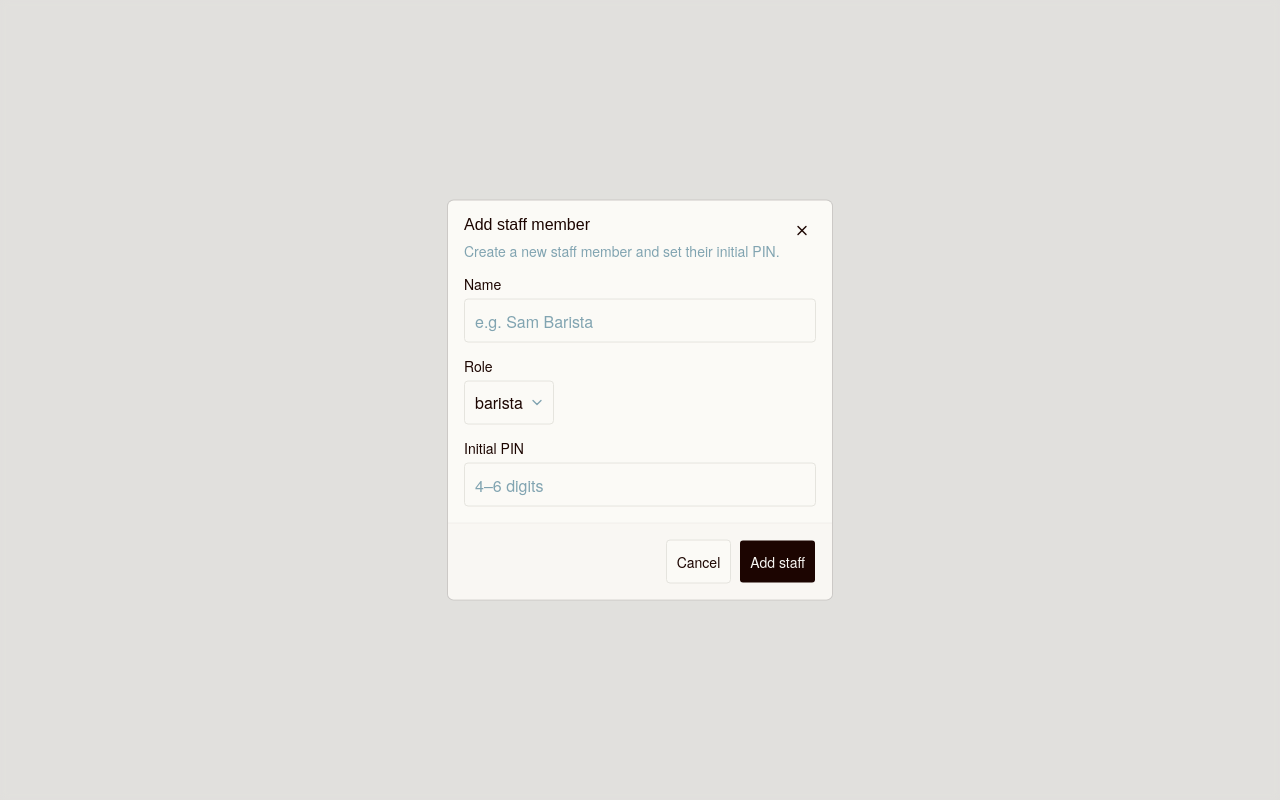
Test case: StaffForm — add › shows a message for a 3-digit PIN
This screenshot has width=1280, height=800.
Type "QA Temp" into the field labelled "Name" at [640, 320], box [464,298,816,342]
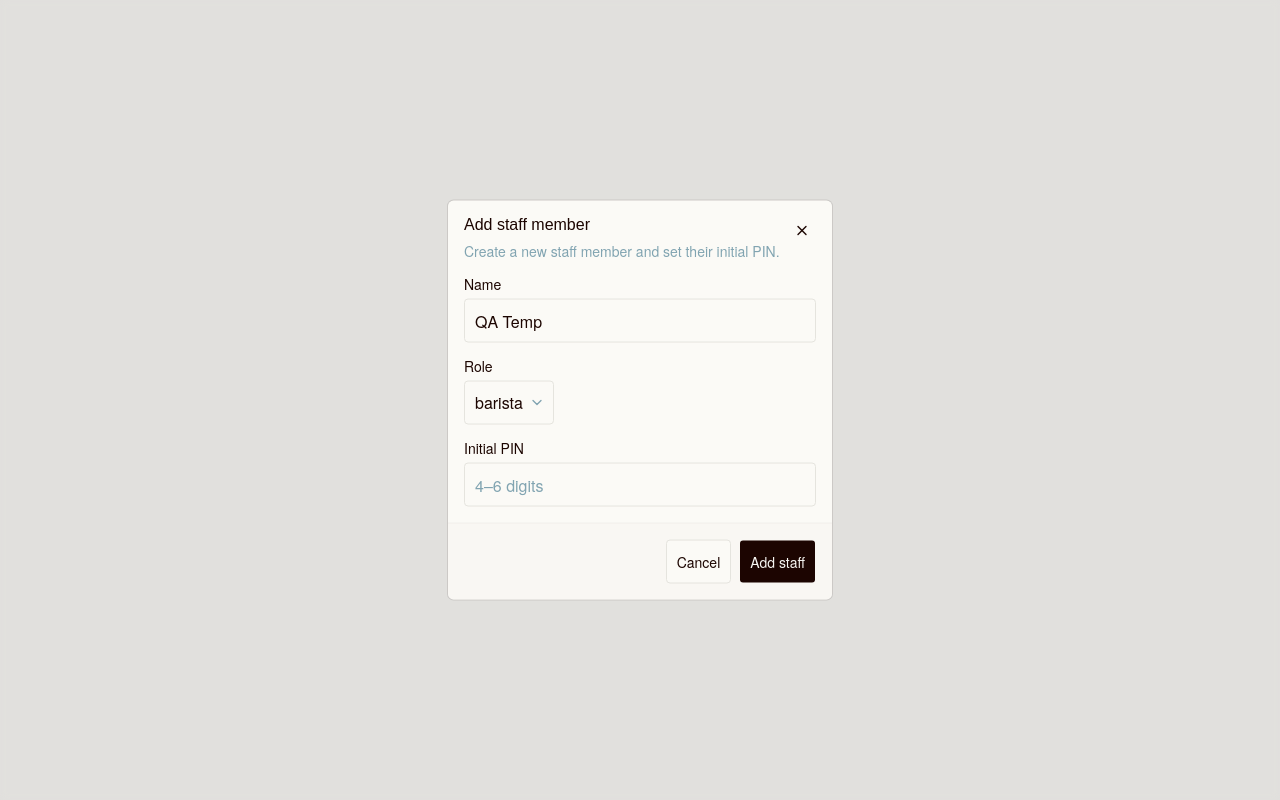
Type "123" into the field labelled "Initial PIN" at [640, 484], box [464,462,816,506]
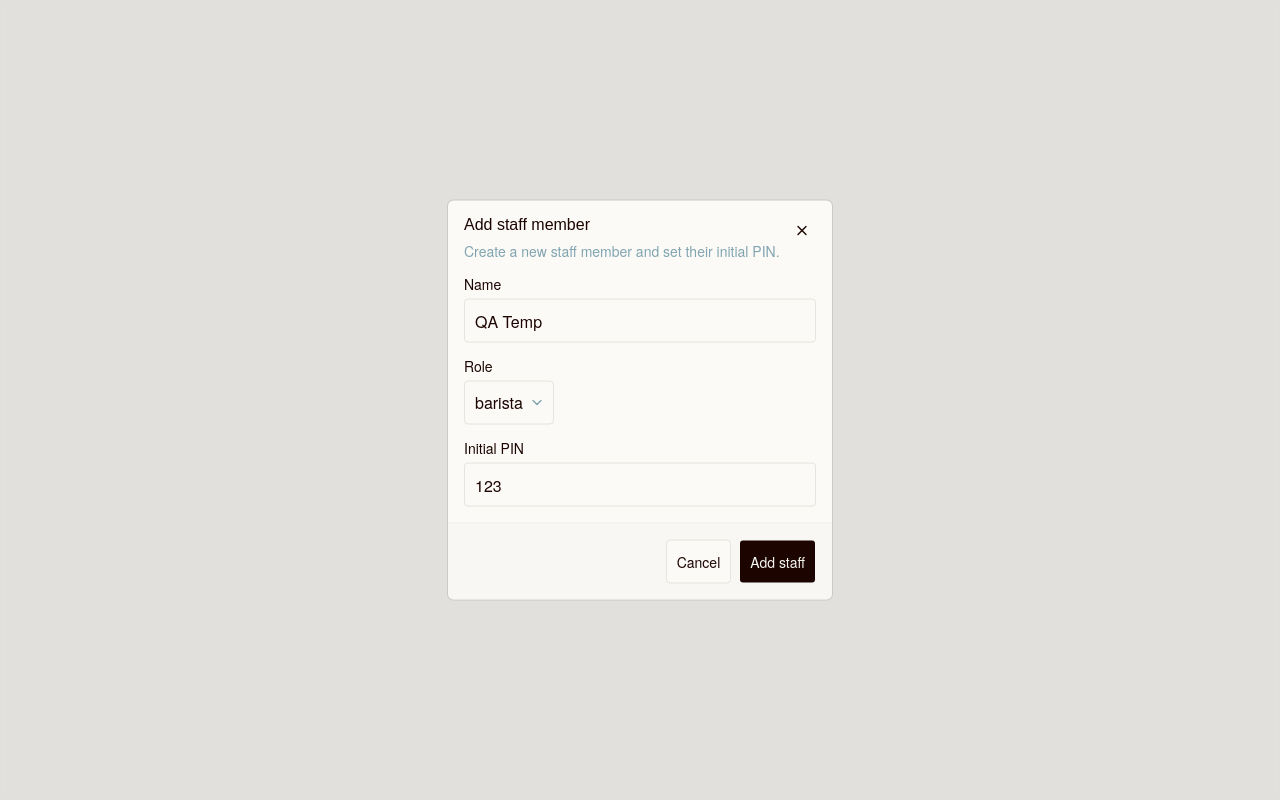
Click the button "Add staff" at [778, 562], box [739,540,816,584]
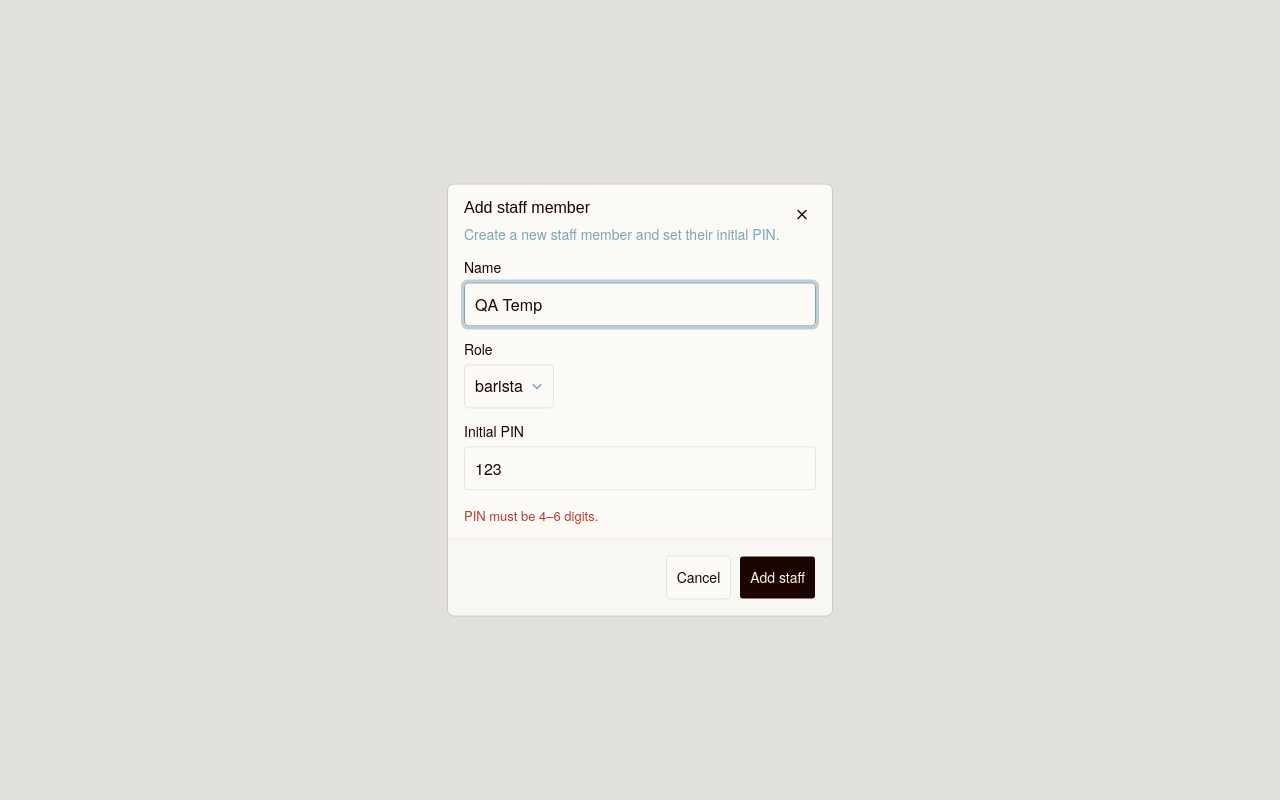
Expected: the message reads "PIN must be 4–6 digits.", [464,506,598,525]
